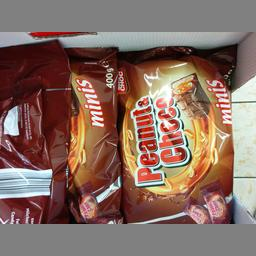chocolate: (118, 48, 236, 223), (54, 44, 121, 222)
